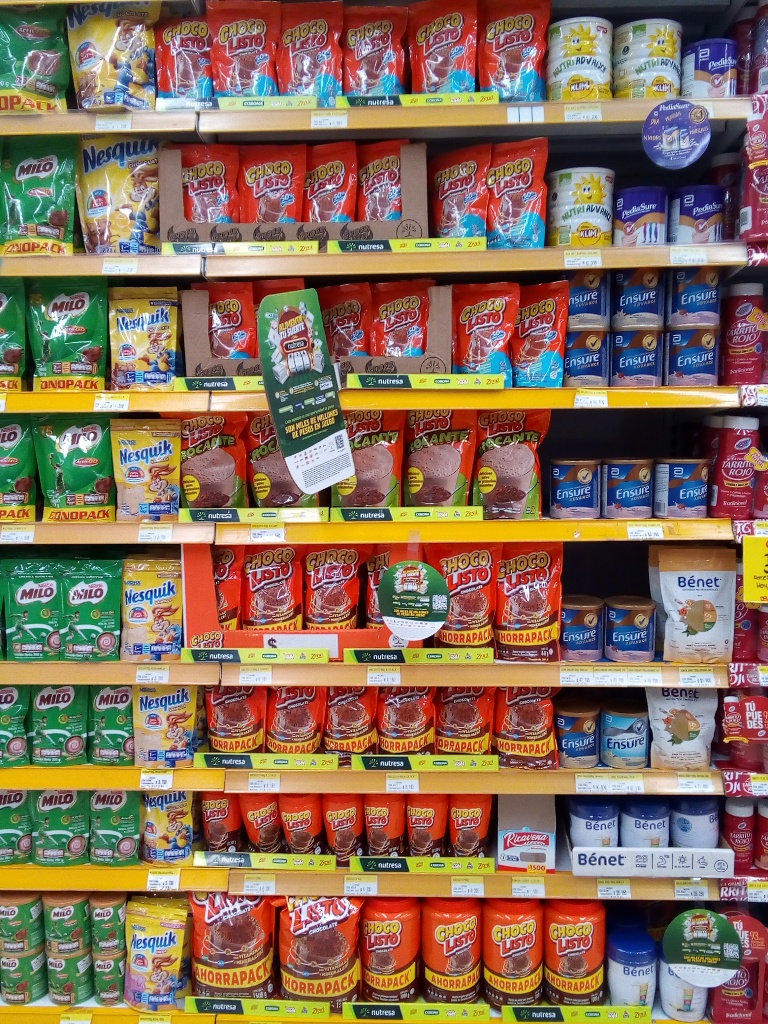COL0170102DYP50000: (469, 408, 553, 518)
COL0170103DYP1,500: (186, 890, 279, 1011)
COL0170103DYP44000: (205, 541, 245, 646)
COL0170103TRR00100: (351, 894, 420, 1001)
COL0170103TRR30000: (194, 792, 243, 858)
COL0170104DYP20000: (166, 141, 239, 236)
COL0170203DYP25000: (87, 787, 141, 867)
COL0170203DYP50000: (27, 284, 113, 396)
COL0170203LAT20000: (86, 895, 131, 954)
COL0170203LAT40000: (34, 895, 89, 953)
COL0170303DYP20000: (133, 782, 200, 864)
COL0170305DYP20000: (123, 890, 190, 1009)
COL0170306DYP20000: (124, 556, 183, 663)
